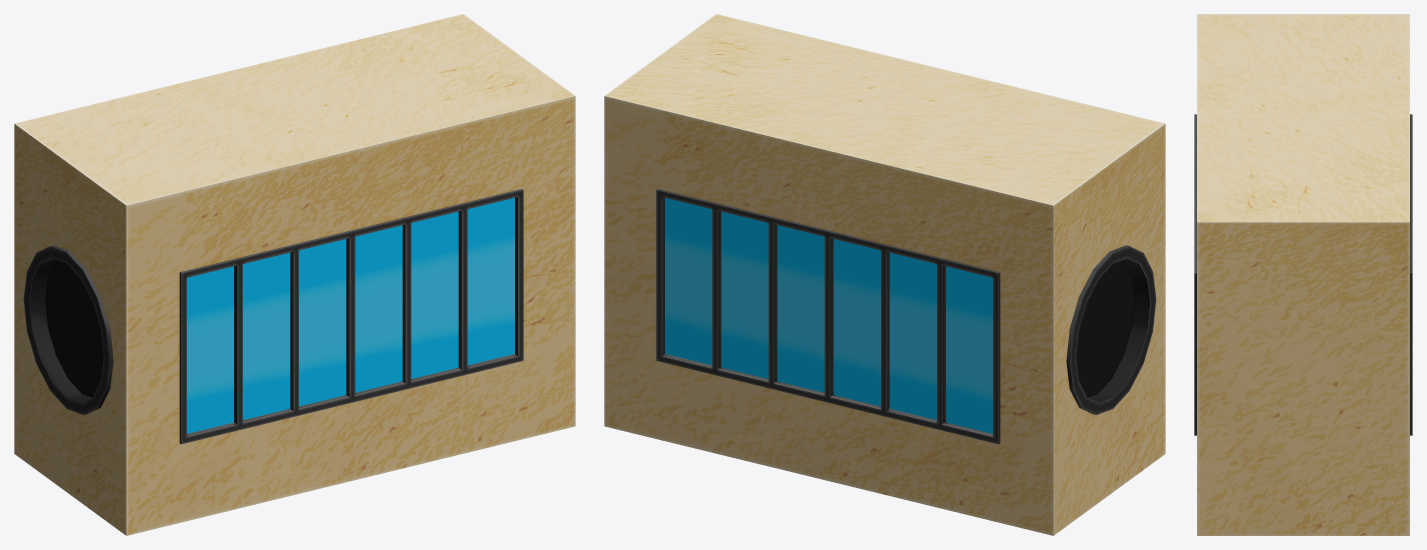
Rendered from KOUYATOFU-GUN.fbx.
3 views of the same model, side by side, from view 1: azimuth 30°, elevation 25°; view 2: azimuth 150°, elevation 25°; view 3: azimuth 270°, elevation 25° (orthographic). The views are drawn at different scales.
Parts seen in each view (by area): view 1: MT_KOUYA_TOFU_GUN; view 2: MT_KOUYA_TOFU_GUN; view 3: MT_KOUYA_TOFU_GUN.
Part boxes in pixels (bbox=[...]): MT_KOUYA_TOFU_GUN: bbox=[14, 14, 575, 535]; MT_KOUYA_TOFU_GUN: bbox=[604, 14, 1165, 535]; MT_KOUYA_TOFU_GUN: bbox=[1194, 14, 1412, 535].
Size of the model in its own units: 37.29 by 26 by 16.4.
